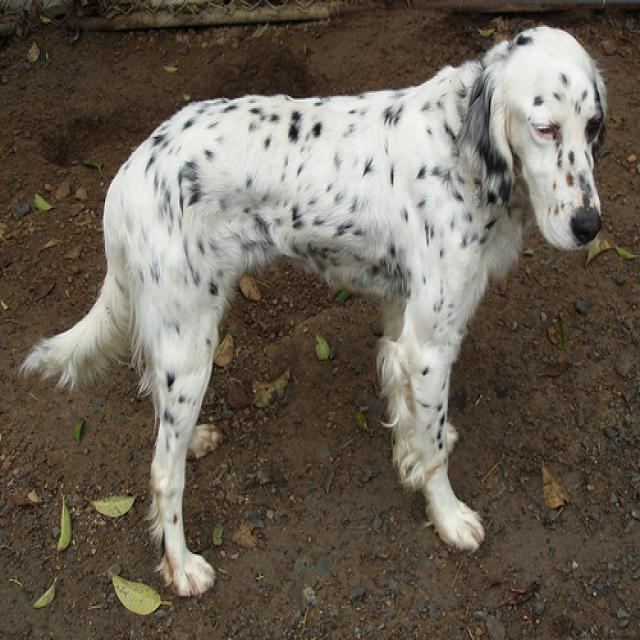dog-english_setter: (17, 15, 617, 606)
